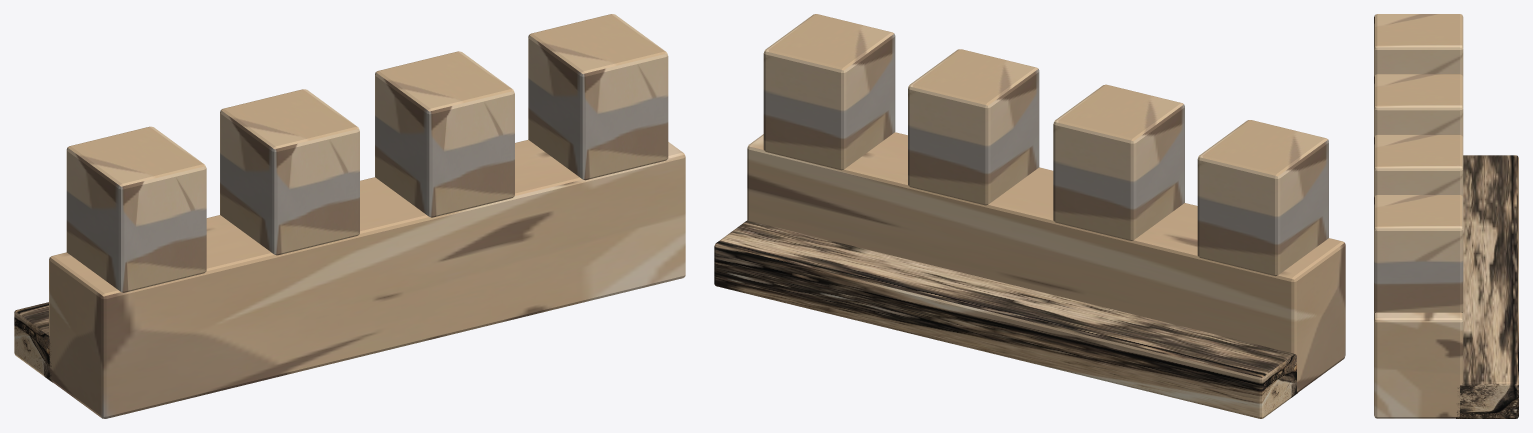
Rendered from parapet_crenellated_4m_LOD1.glb.
The picture shows the model from 3 angles, left to right: view 1: azimuth 30°, elevation 25°; view 2: azimuth 150°, elevation 25°; view 3: azimuth 270°, elevation 25°; orthographic projection. The views are drawn at different scales.
Visible parts, largest first — view 1: LOD1_Base, LOD1_Merlon, LOD1_Merlon.003, LOD1_Merlon.002, LOD1_Merlon.001, LOD1_Step; view 2: LOD1_Base, LOD1_Step, LOD1_Merlon.003, LOD1_Merlon.001, LOD1_Merlon.002, LOD1_Merlon; view 3: LOD1_Step, LOD1_Merlon.003, LOD1_Base, LOD1_Merlon.001, LOD1_Merlon.002, LOD1_Merlon.
Boxes of the visible parts, bbox=[...] form: LOD1_Base: bbox=[49, 140, 685, 418]; LOD1_Merlon: bbox=[66, 126, 206, 292]; LOD1_Merlon.003: bbox=[528, 14, 668, 180]; LOD1_Merlon.002: bbox=[375, 51, 514, 217]; LOD1_Merlon.001: bbox=[220, 89, 359, 255]; LOD1_Step: bbox=[14, 302, 52, 382]; LOD1_Base: bbox=[747, 132, 1345, 391]; LOD1_Step: bbox=[714, 220, 1298, 418]; LOD1_Merlon.003: bbox=[763, 14, 895, 170]; LOD1_Merlon.001: bbox=[1053, 84, 1184, 240]; LOD1_Merlon.002: bbox=[908, 49, 1039, 205]; LOD1_Merlon: bbox=[1197, 120, 1328, 276]; LOD1_Step: bbox=[1455, 155, 1518, 418]; LOD1_Merlon.003: bbox=[1374, 195, 1463, 312]; LOD1_Base: bbox=[1374, 312, 1463, 418]; LOD1_Merlon.001: bbox=[1374, 74, 1463, 137]; LOD1_Merlon.002: bbox=[1374, 134, 1463, 197]; LOD1_Merlon: bbox=[1374, 14, 1463, 76].
Bounding box in the file's own units: 4 × 1.51 × 1.07.
2 materials, 2 textured.
